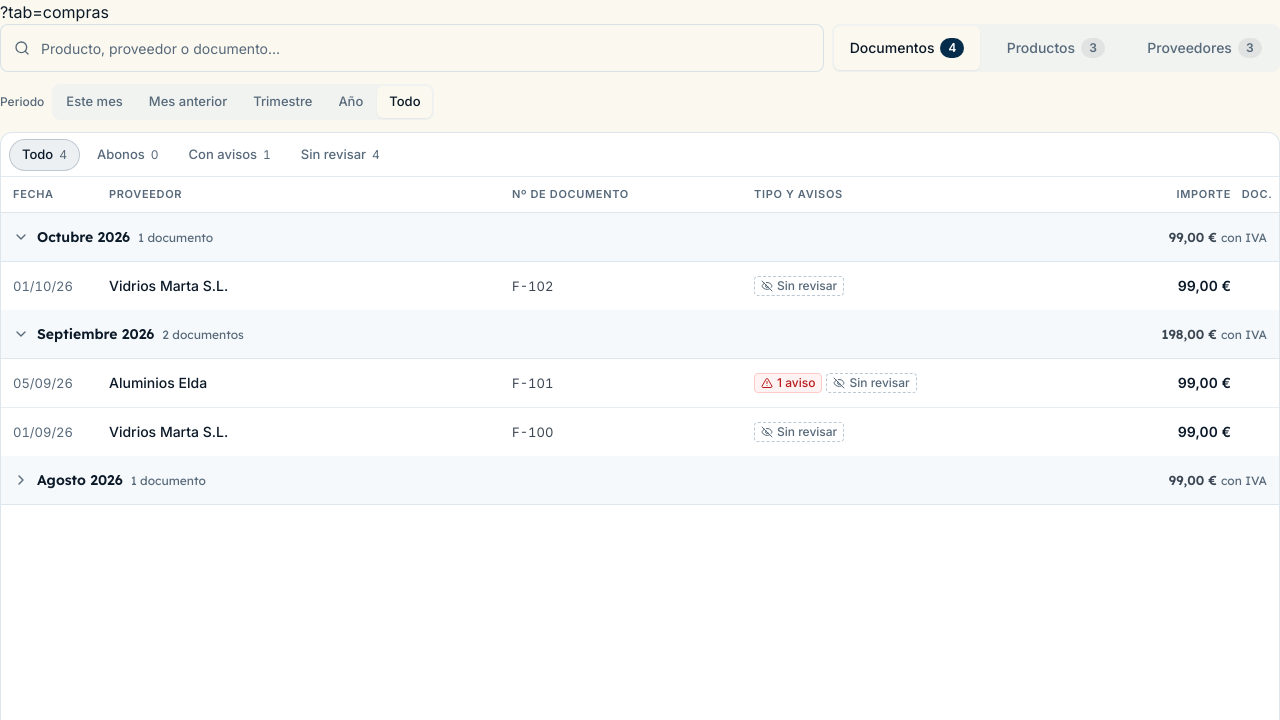
Test: Compras · ficha a pantalla completa › documento: sus datos, los botones de siempre con texto y sus líneas con enlace al producto
Click the text "F-100" at [533, 432], box top-left (512, 424), bottom-right (553, 440)
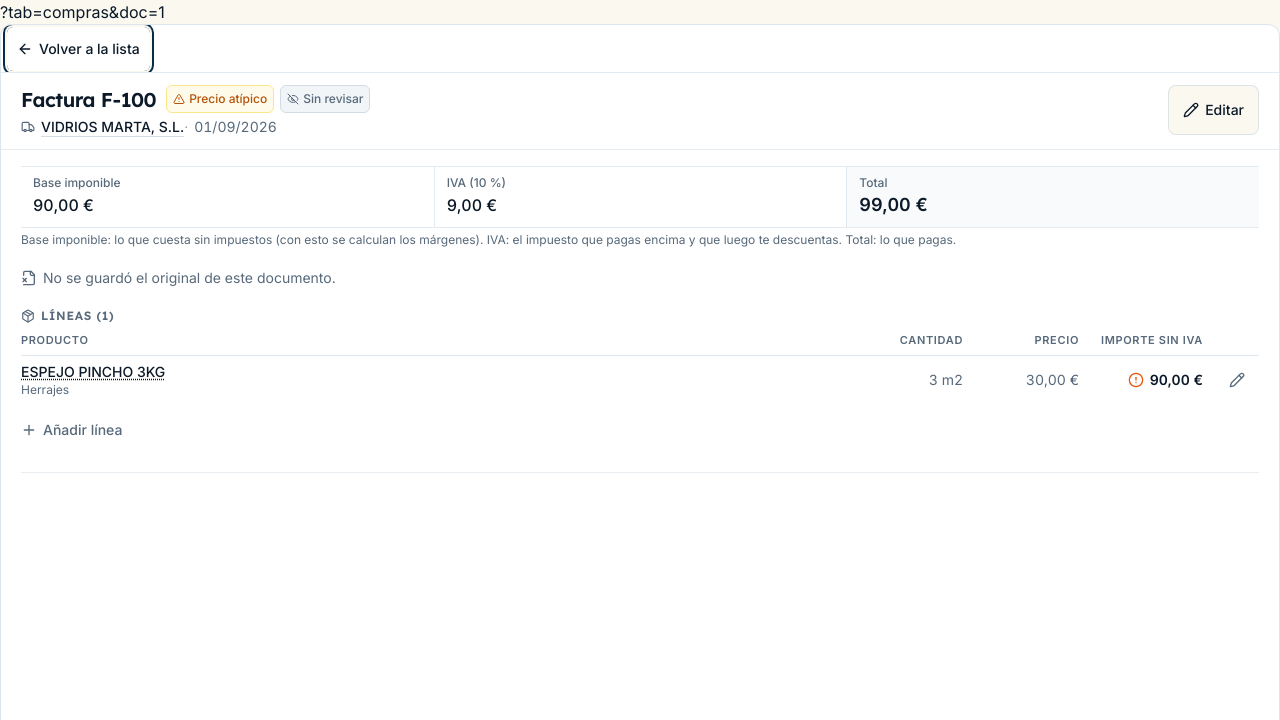
Result: the heading "Factura F-100" is shown at top-left (21, 86), bottom-right (156, 112)
Result: the button "Editar" is shown
Result: the message with test id "sin-original" shows "No se guardó el original" at top-left (43, 269), bottom-right (336, 286)
Click the button "Editar" at [1214, 110], box top-left (1171, 88), bottom-right (1256, 132)
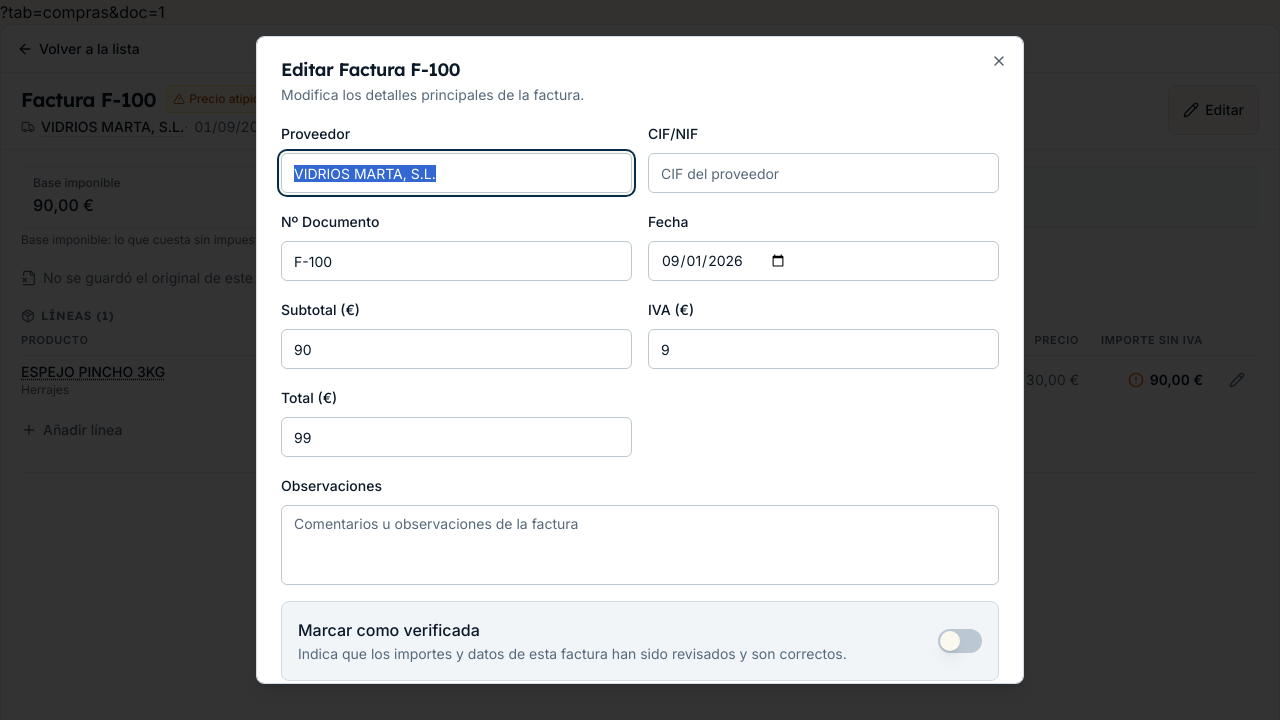
Result: the dialog is shown at top-left (256, 36), bottom-right (1024, 684)
